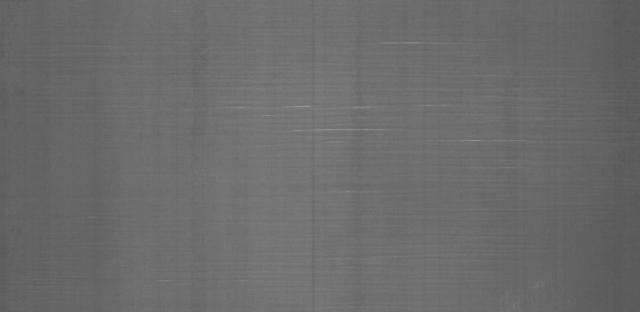waist_folding: (264, 14, 583, 241)
